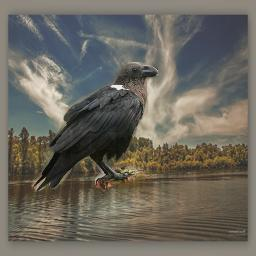Crow: (31, 62, 158, 192)
